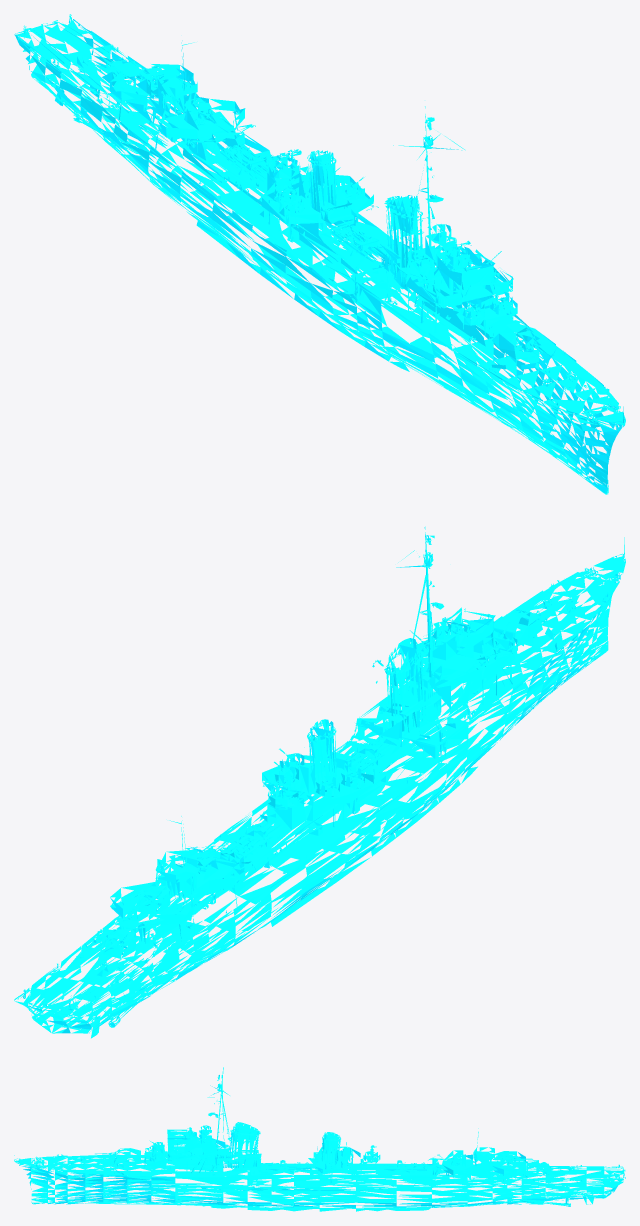
The model's file is Provorny.glb.
3 renders of one model, top to bottom at view 1: azimuth 30°, elevation 25°; view 2: azimuth 150°, elevation 25°; view 3: azimuth 270°, elevation 25°, orthographic. The views are drawn at different scales.
Bounding box in the file's own units: 0.7997 × 2.09 × 8.48.
